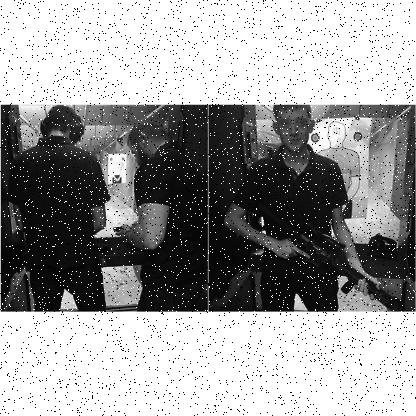gun: (249, 200, 403, 310)
